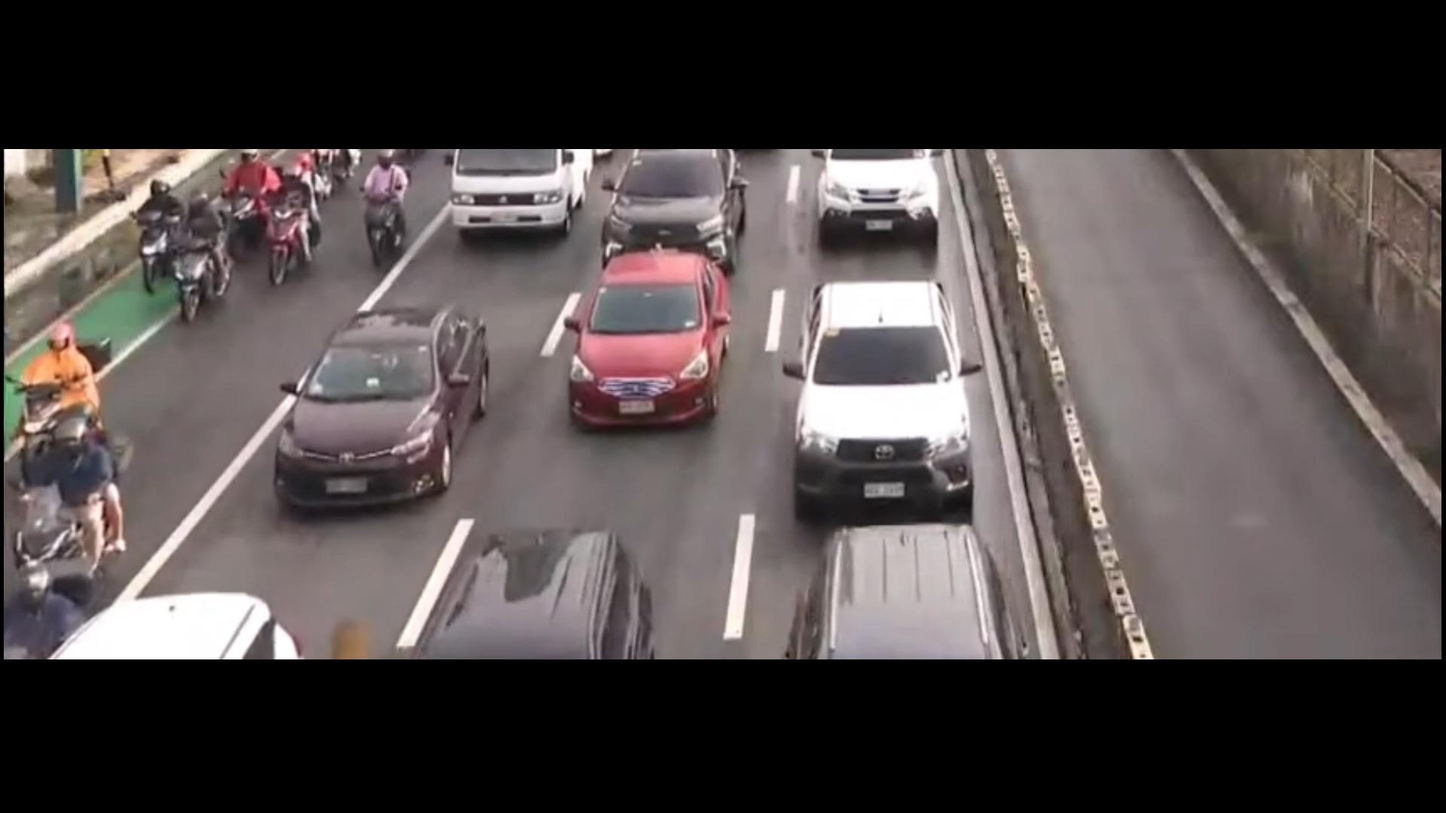Motorcycle: (9, 413, 164, 615), (6, 311, 140, 458), (166, 183, 245, 327), (343, 158, 422, 265), (263, 160, 326, 283), (132, 179, 185, 286), (223, 157, 274, 244)
SUV: (778, 247, 996, 524), (594, 153, 765, 268)
Sedan: (254, 286, 514, 541), (531, 236, 750, 441)
